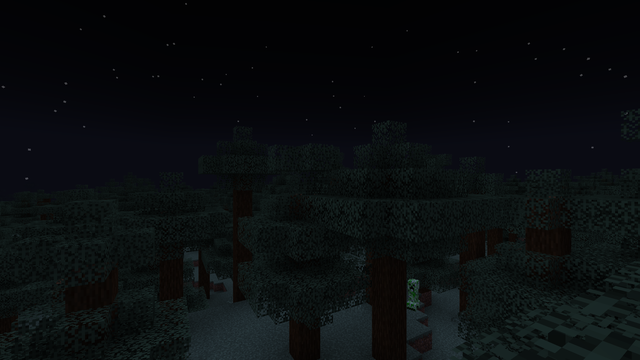creepers: (407, 277, 420, 310)
